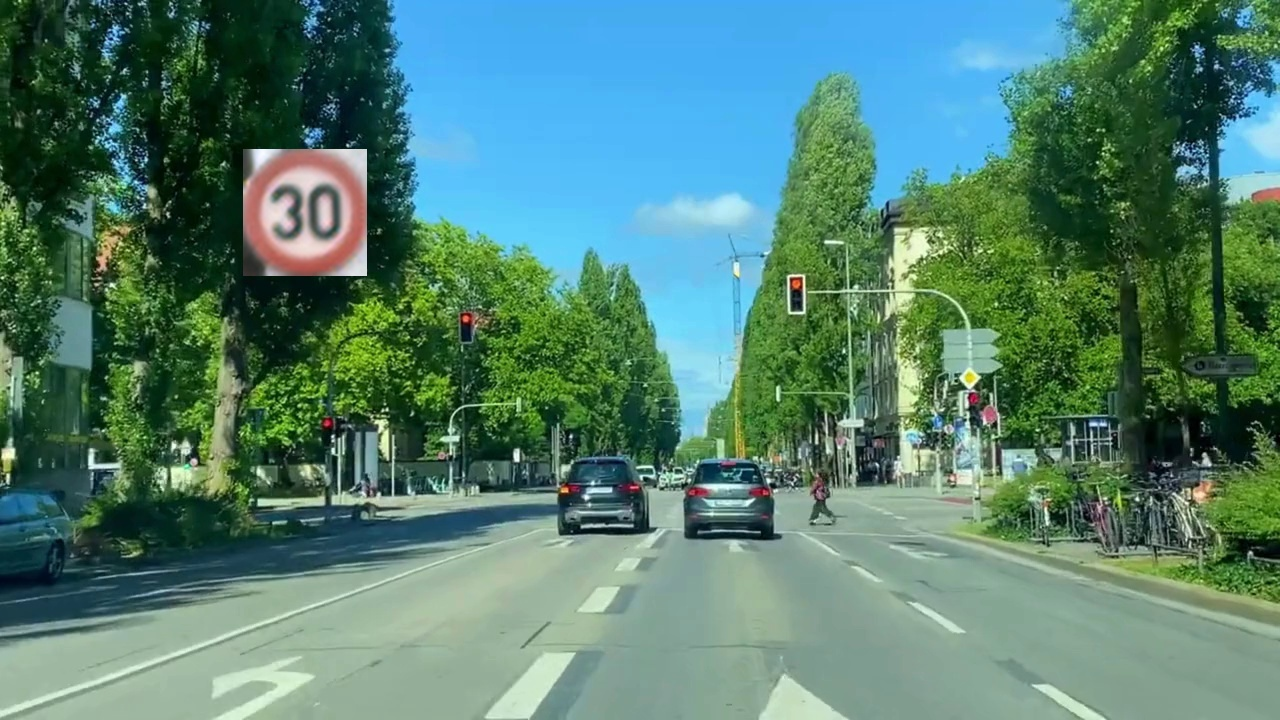Speed 30: (243, 149, 367, 276)
